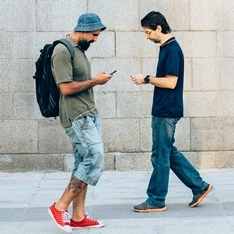Person: (32, 13, 113, 231), (128, 9, 213, 213)
